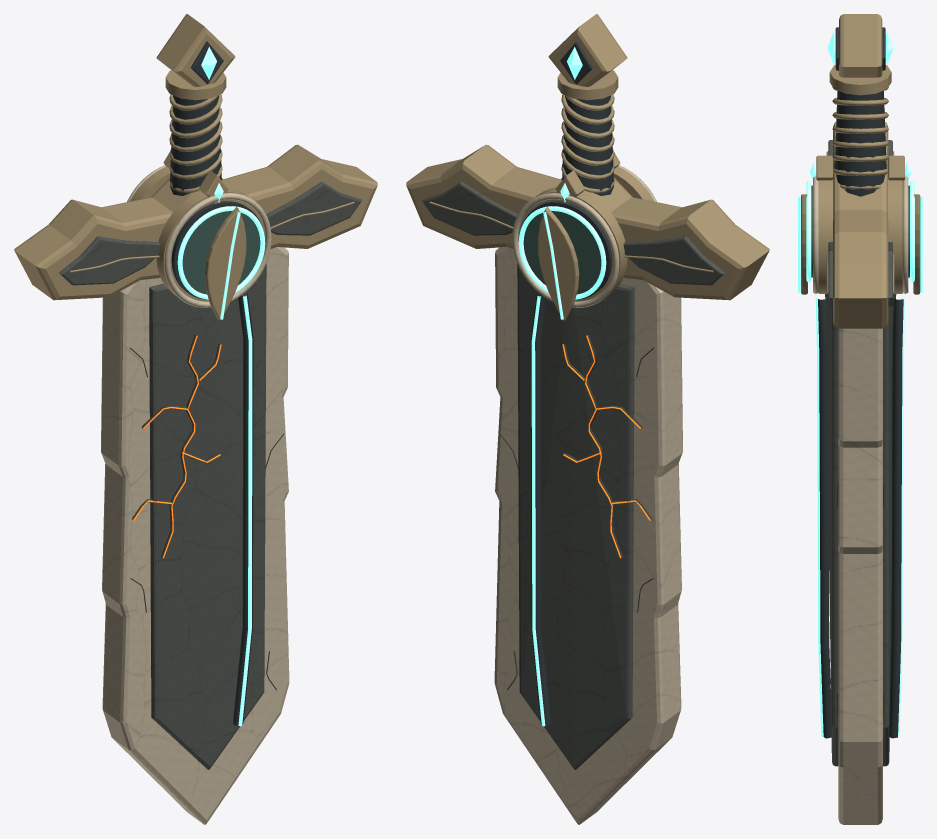
File: ancient-wind-sword.glb
3 renders of one model, left to right at view 1: azimuth 30°, elevation 25°; view 2: azimuth 150°, elevation 25°; view 3: azimuth 270°, elevation 25°, orthographic.
Parts seen in each view (by area): view 1: ancient-sword-steel, ancient-sword-stone, ancient-sword-bronze, ancient-sword-grip, ancient-sword-wind, ancient-sword-seal, ancient-sword-seams, ancient-sword-ember; view 2: ancient-sword-steel, ancient-sword-stone, ancient-sword-bronze, ancient-sword-grip, ancient-sword-wind, ancient-sword-seal, ancient-sword-seams, ancient-sword-ember; view 3: ancient-sword-stone, ancient-sword-bronze, ancient-sword-grip, ancient-sword-steel, ancient-sword-wind, ancient-sword-seal.
Boxes of the visible parts, left/top/right/bottom form: ancient-sword-steel: left=59, top=181, right=361, bottom=769; ancient-sword-stone: left=101, top=165, right=289, bottom=824; ancient-sword-bronze: left=14, top=14, right=377, bottom=320; ancient-sword-grip: left=170, top=41, right=262, bottom=725; ancient-sword-wind: left=177, top=47, right=265, bottom=726; ancient-sword-seal: left=182, top=211, right=259, bottom=293; ancient-sword-seams: left=130, top=335, right=283, bottom=690; ancient-sword-ember: left=133, top=335, right=221, bottom=558; ancient-sword-steel: left=422, top=181, right=724, bottom=769; ancient-sword-stone: left=494, top=165, right=682, bottom=824; ancient-sword-bronze: left=406, top=14, right=769, bottom=320; ancient-sword-grip: left=521, top=41, right=613, bottom=725; ancient-sword-wind: left=518, top=47, right=606, bottom=726; ancient-sword-seal: left=524, top=211, right=601, bottom=293; ancient-sword-seams: left=500, top=334, right=653, bottom=690; ancient-sword-ember: left=562, top=335, right=650, bottom=558; ancient-sword-stone: left=813, top=175, right=908, bottom=824; ancient-sword-bronze: left=801, top=14, right=920, bottom=328; ancient-sword-grip: left=817, top=27, right=903, bottom=738; ancient-sword-steel: left=825, top=140, right=896, bottom=766; ancient-sword-wind: left=798, top=31, right=922, bottom=736; ancient-sword-seal: left=811, top=185, right=909, bottom=277.
Size of the model in its own units: 6.37 by 14.19 by 1.98.
Materials: 8 (2 with a texture image).
